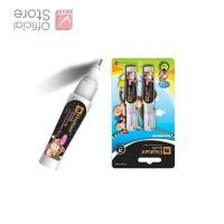book: (109, 54, 177, 171)
correction_fluid: (36, 56, 108, 174), (122, 64, 141, 133), (141, 64, 158, 132)
